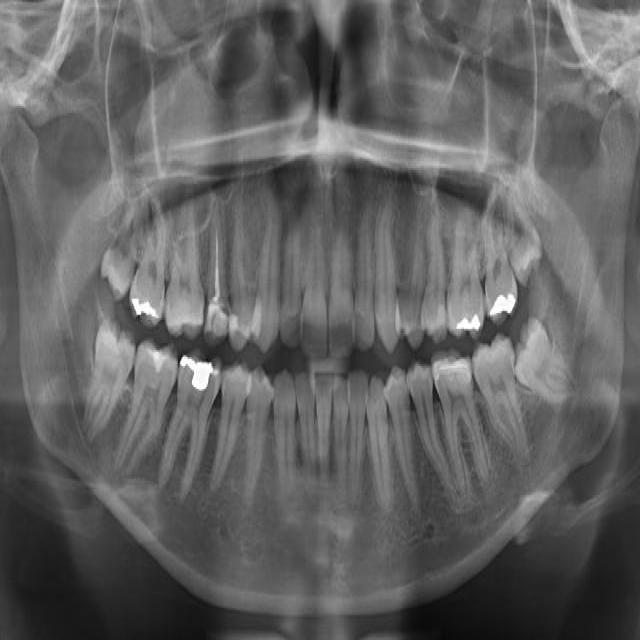dolgu: (180, 344, 218, 409), (485, 265, 519, 323), (449, 295, 487, 341), (128, 278, 162, 326)
kanal-tedavisi: (205, 202, 226, 304)
